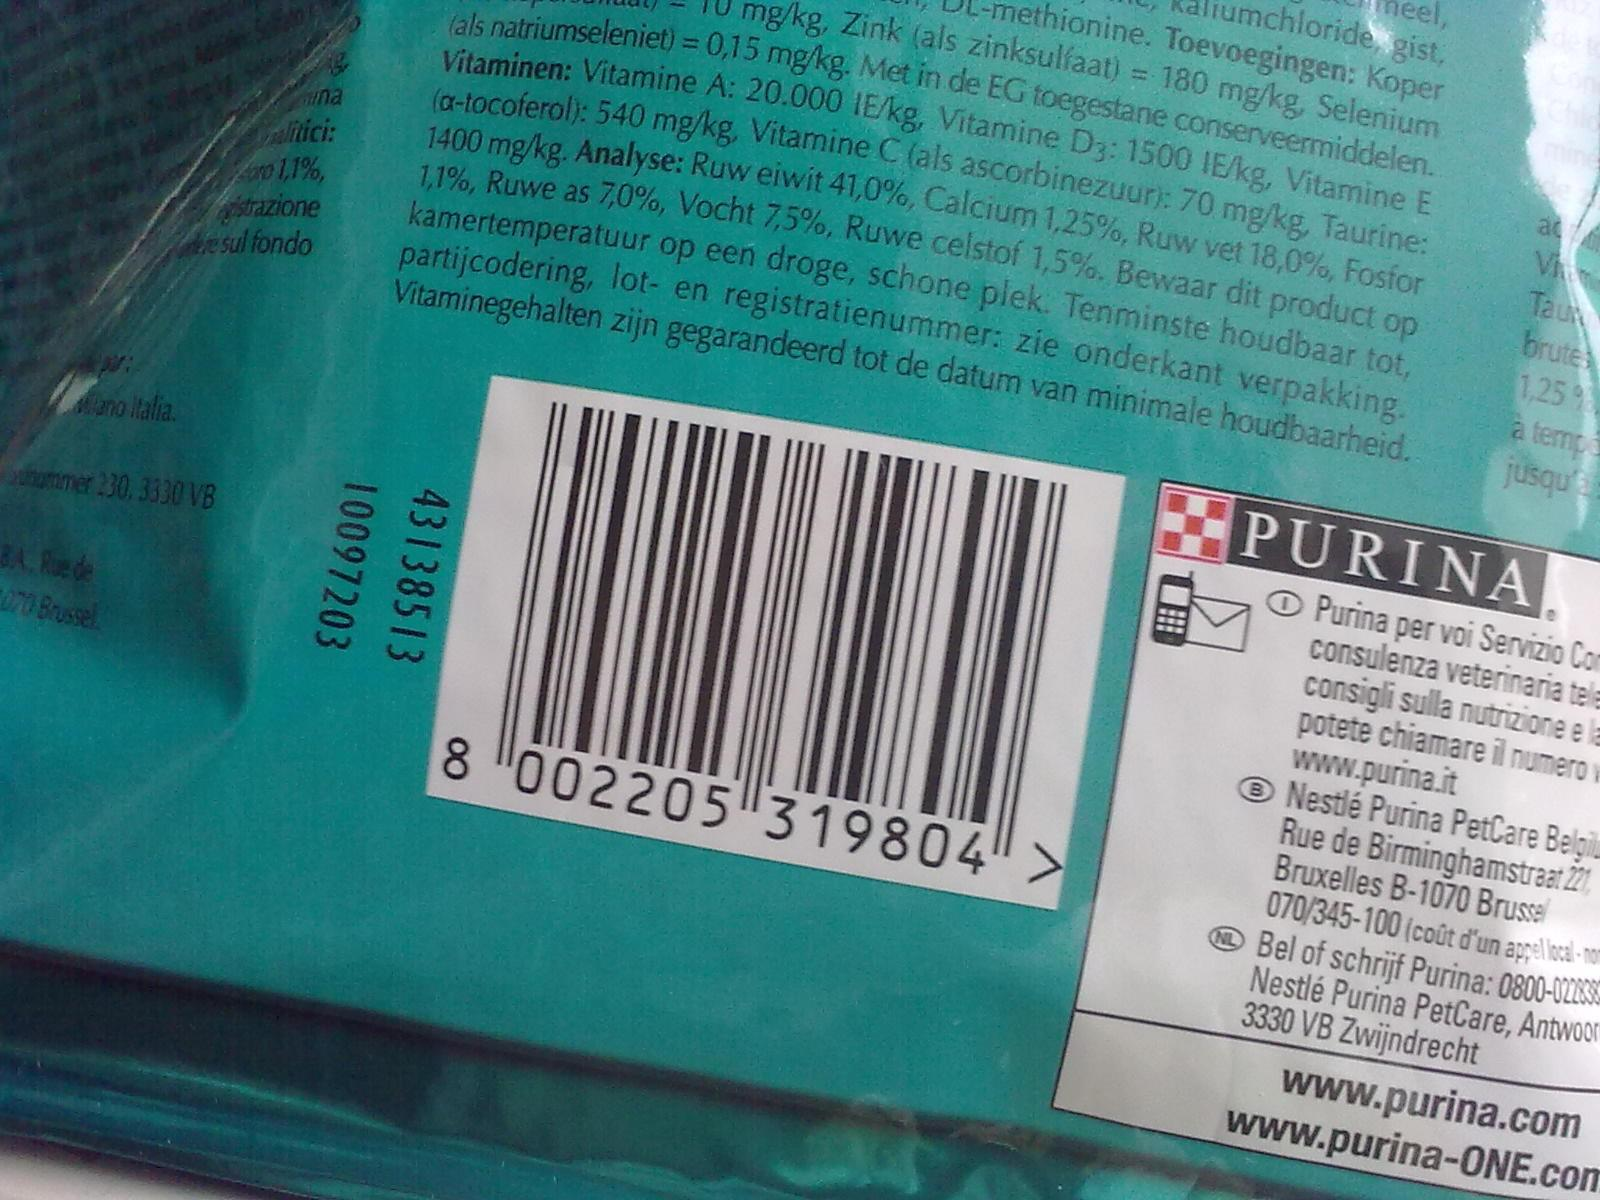Barcode: (430, 408, 1083, 896)
